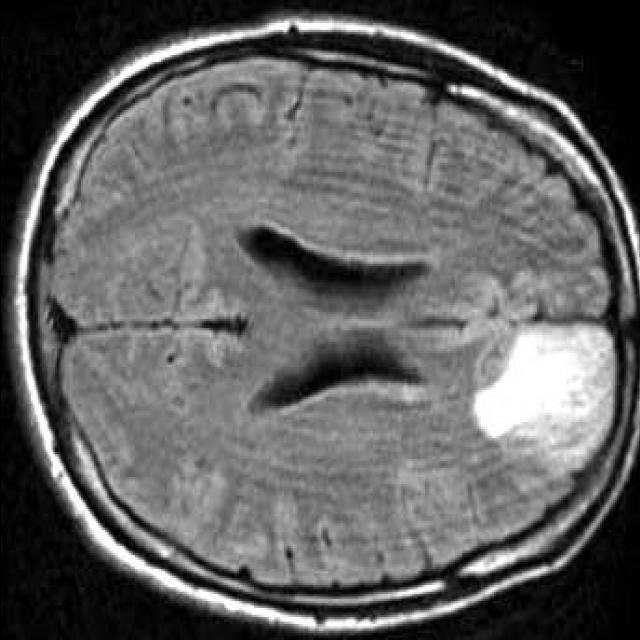tumor: (471, 323, 614, 440)
